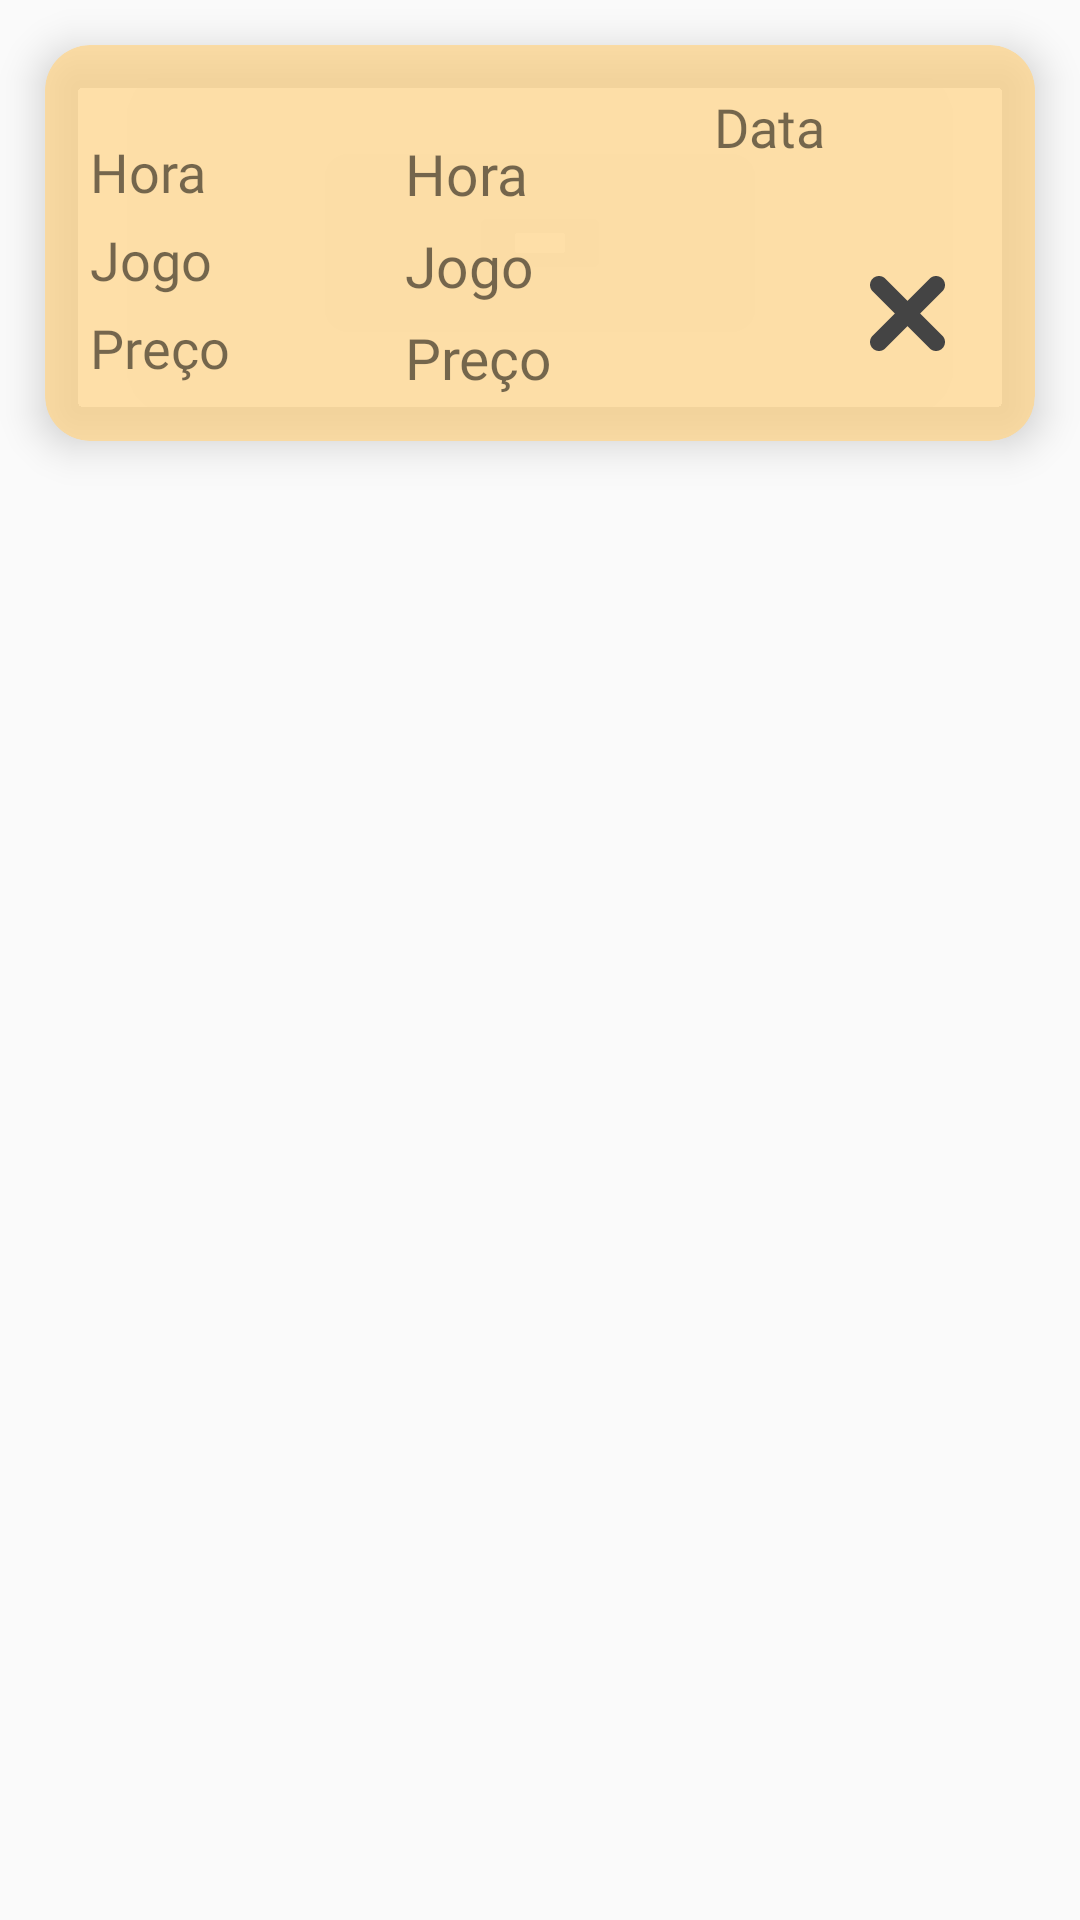

Icons on this 1080*1920 Android screen, each with the point to tap as (x,y):
cross: (907,313)
